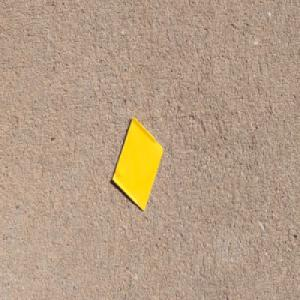PlasticPart: (111, 115, 163, 211)
